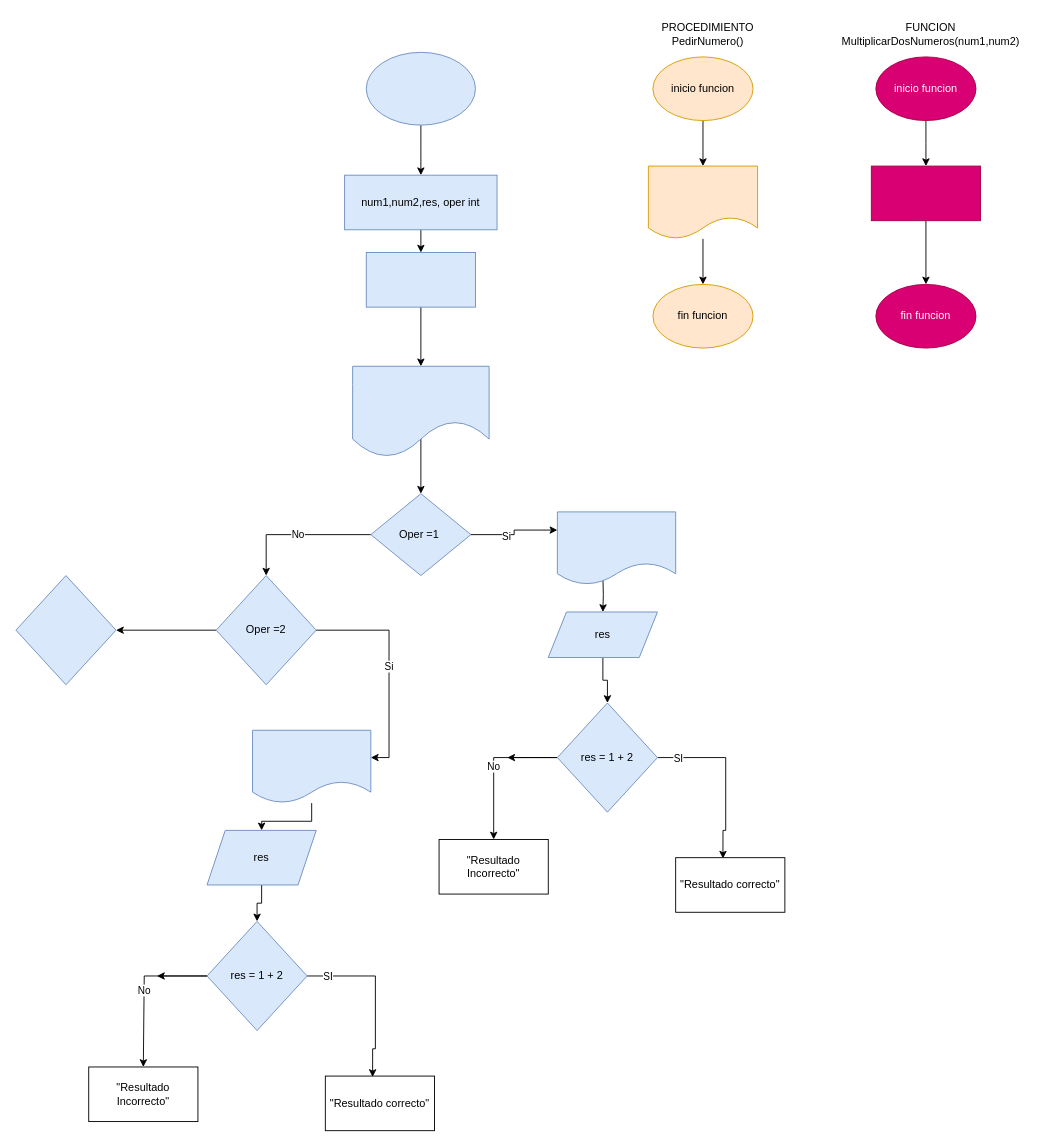
The diagram is 1047 pixels wide and 1147 high, and some of its shapes have lost their labels. Each missing label, with the box of its shape:
"Ingresa un número": (647, 165, 758, 239)
"num1, " *+",num2," = ": (556, 511, 676, 585)
"num1, " *-",num2," = ": (252, 729, 371, 803)
"Selecciona Operación 1 Suma 2 Resta 3 Multiplicación 4 División": (352, 365, 489, 457)
inicio: (365, 51, 475, 125)
multi = num1 * num2: (870, 165, 981, 221)
Num1 = random(100) Num2 = random (10): (365, 252, 475, 307)
Oper =3: (15, 575, 116, 685)
